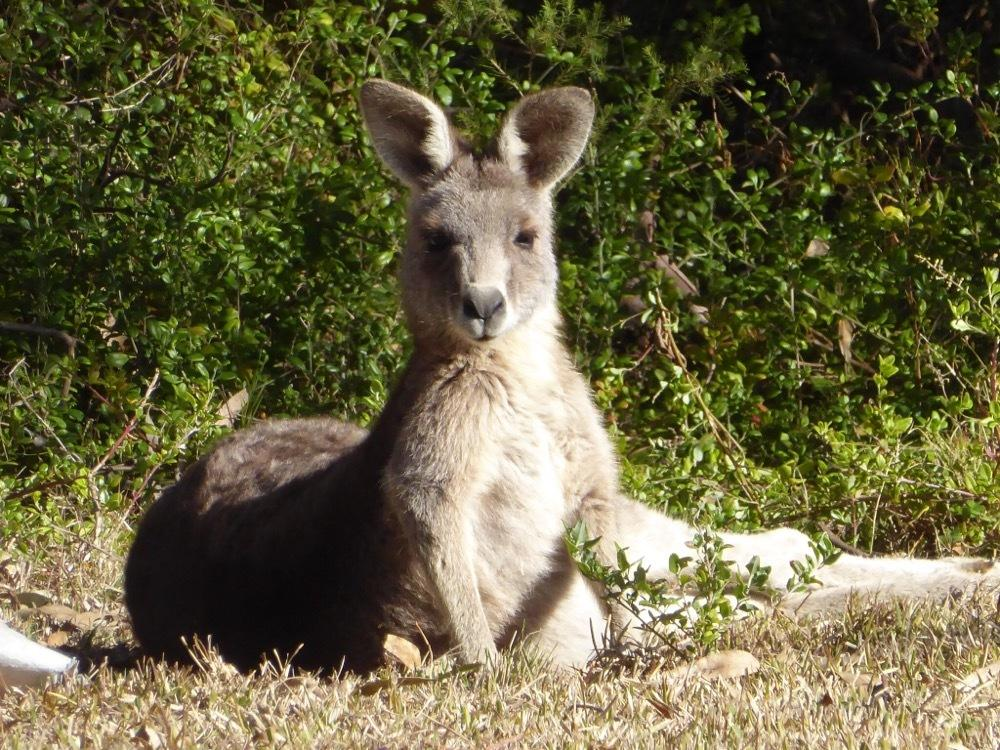Eastern grey kangaroo: (120, 80, 997, 681)
